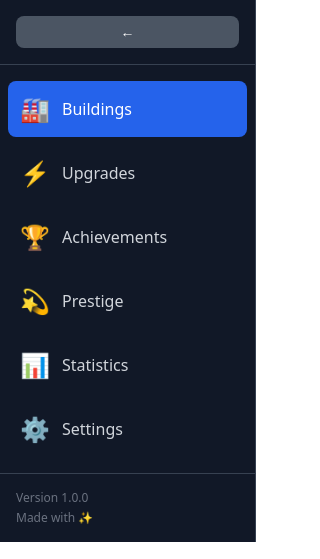
Test: Sidebar › should hide tab labels when collapsed
The width and height of the screenshot is (320, 559).
Expected: the text "Buildings" is shown, [62,97,132,121]
Click the button named "Collapse sidebar": coordinates (128, 32) [16,16,239,48]
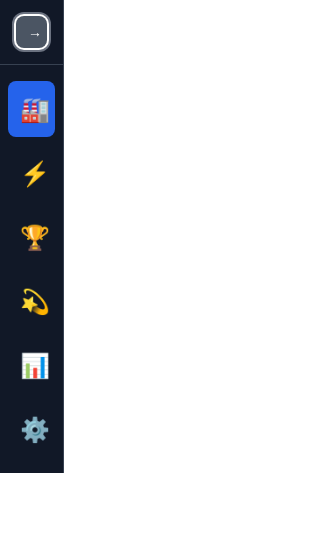
Now the text "Buildings" is gone
